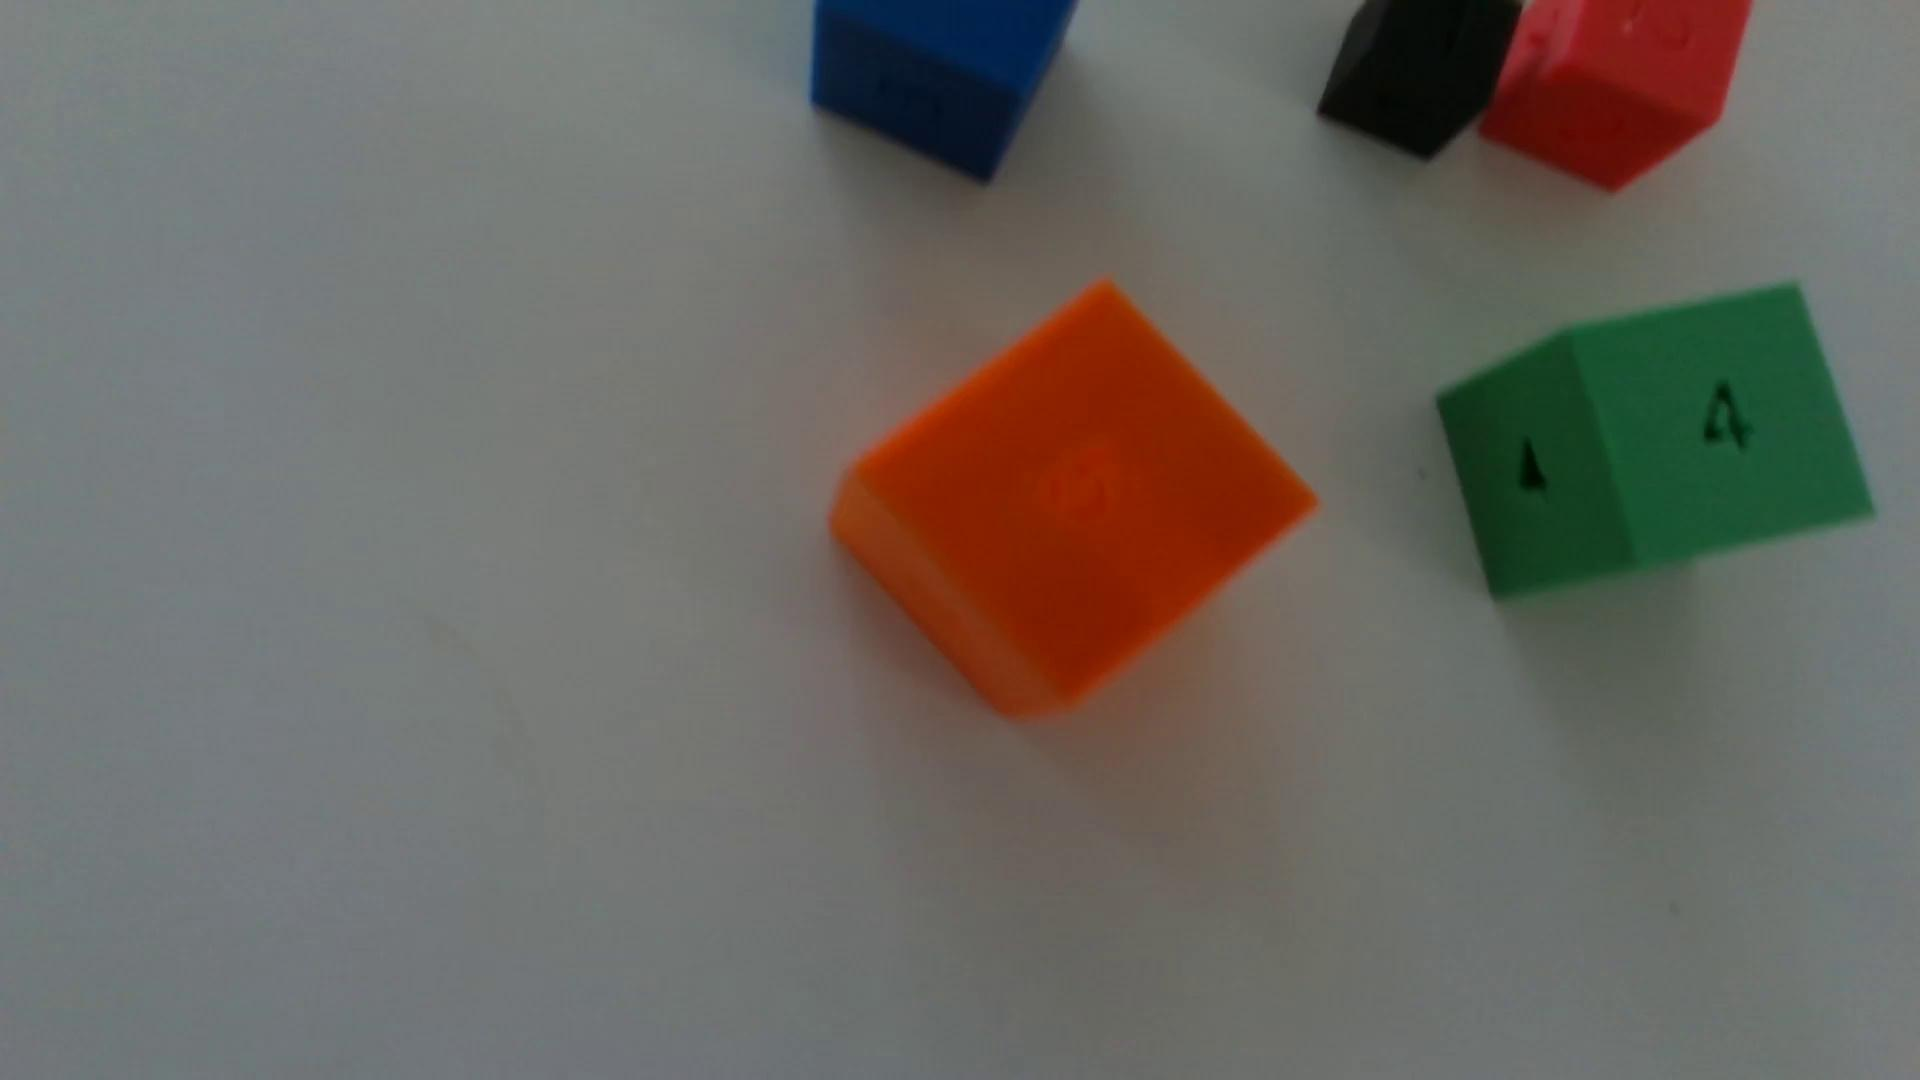black: (1317, 0, 1520, 160)
blue: (810, 0, 1077, 182)
green: (1437, 285, 1873, 599)
orange: (829, 284, 1315, 717)
red: (1480, 0, 1753, 191)
